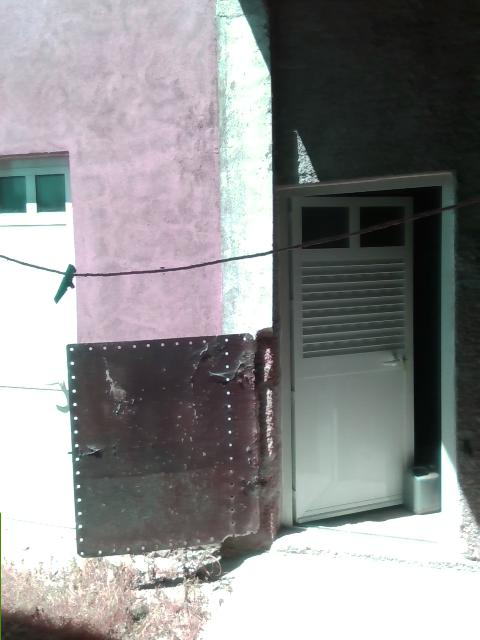semi_door: (273, 168, 454, 523)
